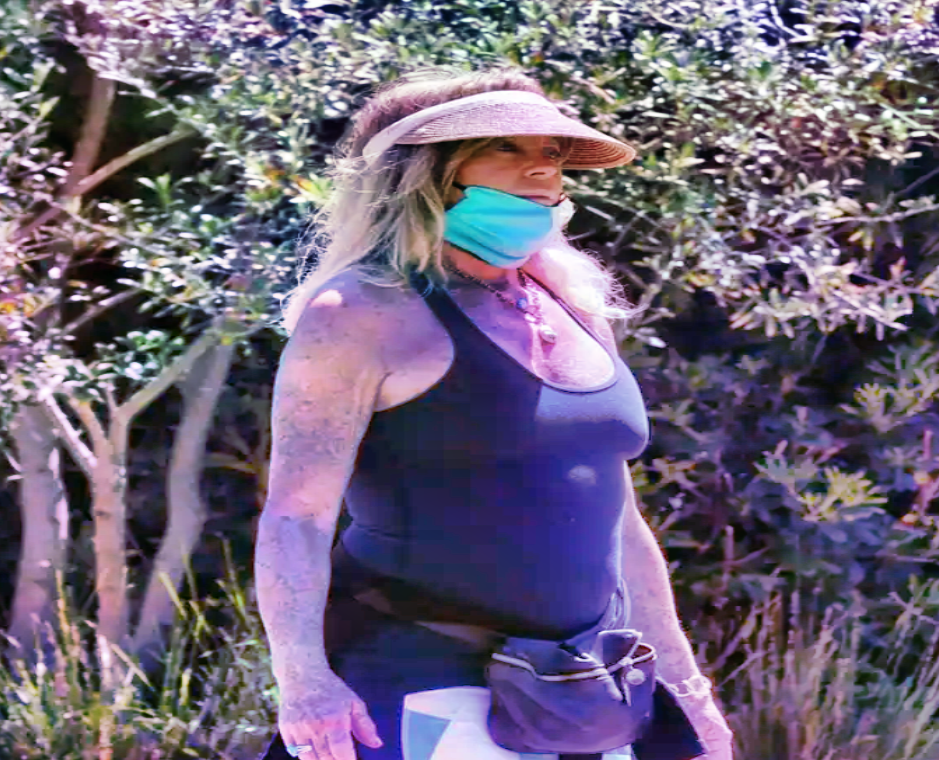mask_weared_incorrect: (347, 72, 621, 275)
